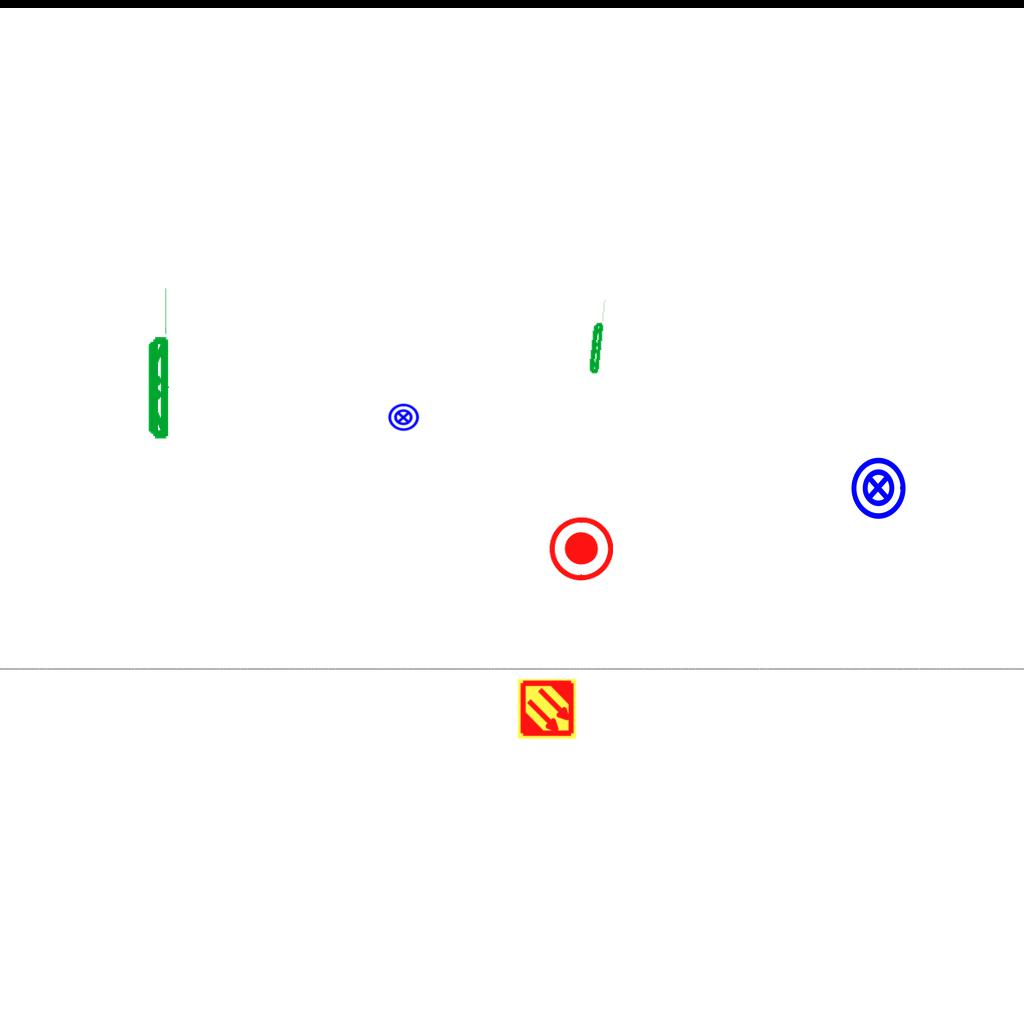ASR_Ansaugrauchmelder: (516, 678, 578, 740)
Sicherheitsleuchte_Wandeinbau: (145, 283, 170, 442), (586, 295, 608, 376)
Taster: (547, 515, 613, 581)
Taster_beleuchtet: (845, 455, 911, 521), (387, 401, 420, 434)
